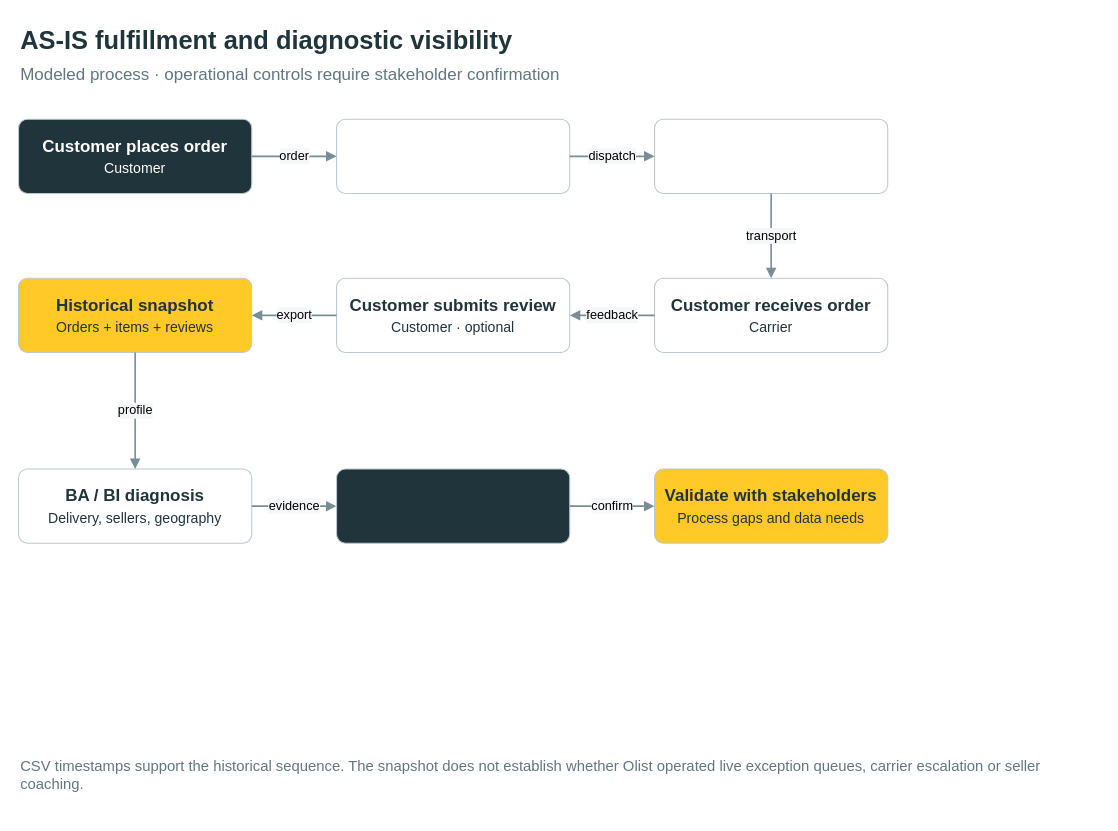
This 1118x831 diagram has some shape labels left out. Here are the shapes that lost their labels. From the top down, the box of each, then its label:
(335, 118, 570, 193): Seller prepares order Seller
(653, 118, 888, 193): Carrier handoff recorded Seller / carrier
(335, 468, 570, 543): Prioritize pilot hypothesis Logistics + CX
